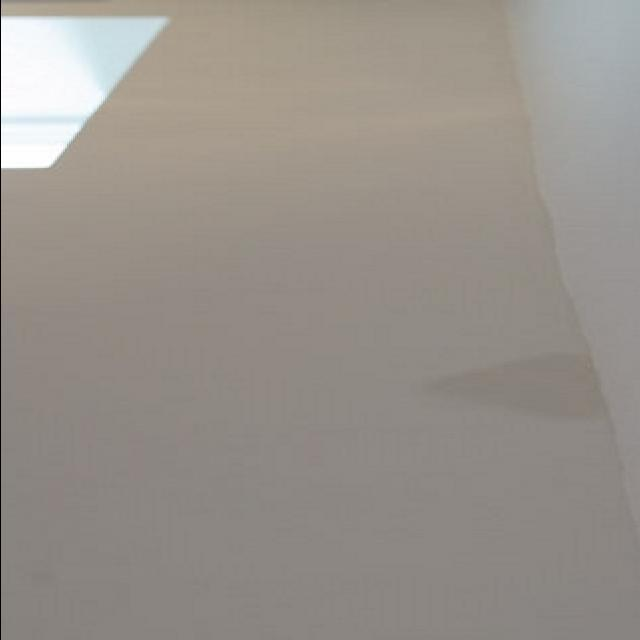leak: (425, 349, 608, 430)
